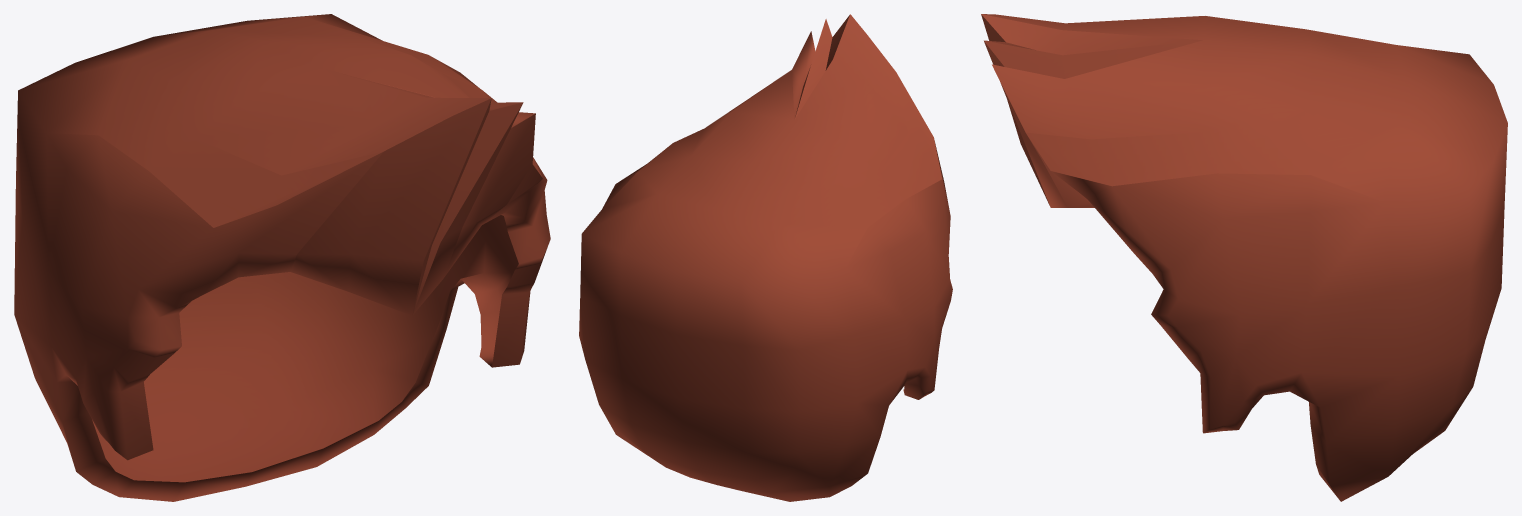
Rendered from Hair_Brown_3.fbx.
3 renders of one model, left to right at view 1: azimuth 30°, elevation 25°; view 2: azimuth 150°, elevation 25°; view 3: azimuth 270°, elevation 25°, orthographic. The views are drawn at different scales.
Visible parts, largest first — view 1: Hair_Brown_3; view 2: Hair_Brown_3; view 3: Hair_Brown_3.
Part boxes in pixels (box(x1,y1,x2,y2)): Hair_Brown_3: box(14, 14, 550, 501); Hair_Brown_3: box(579, 14, 952, 501); Hair_Brown_3: box(981, 14, 1507, 501).
Bounding box in the file's own units: 53.25 × 60.55 × 61.45.
